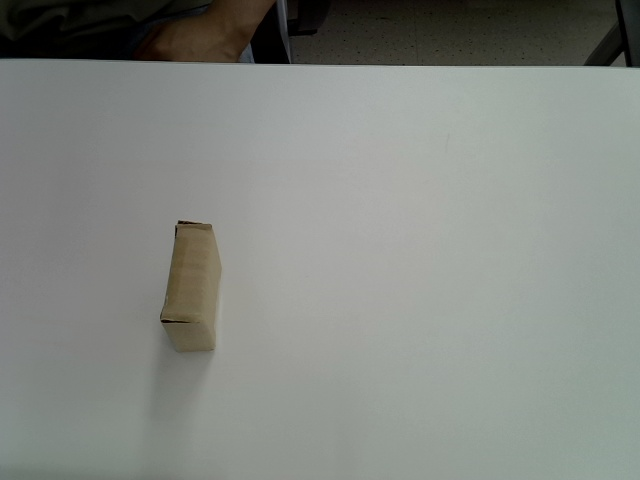normal: (159, 220, 223, 355)
